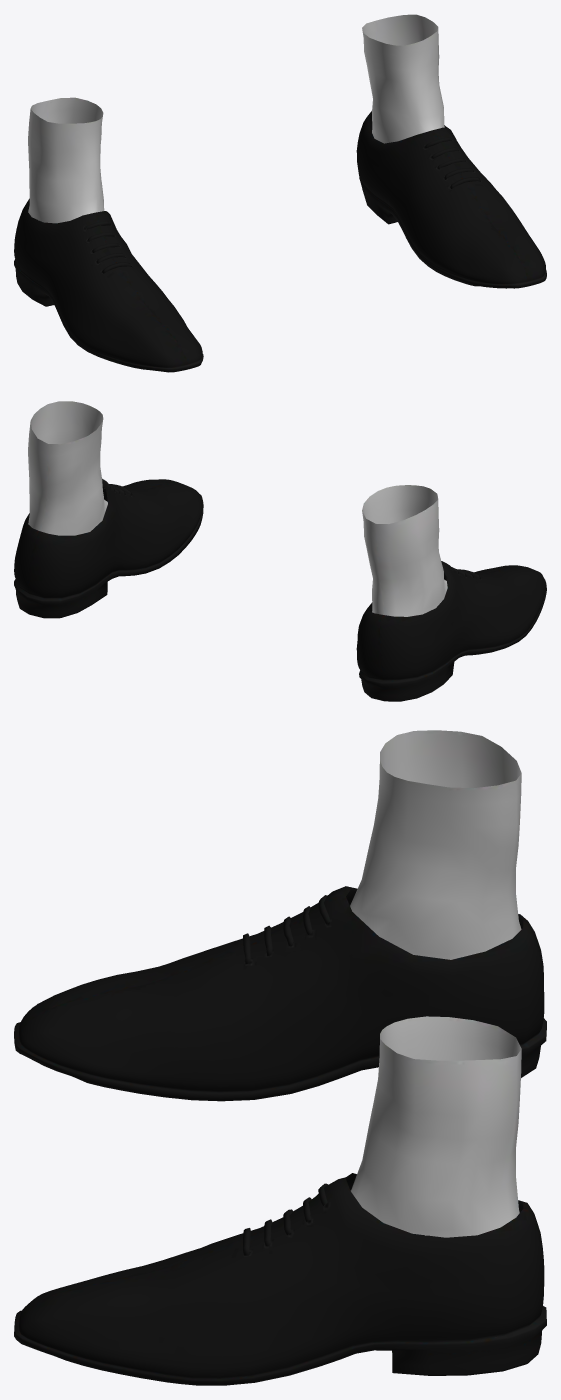
File: mindfront-shoes-oxford-female.glb
The picture shows the model from 3 angles, top to bottom: view 1: azimuth 30°, elevation 25°; view 2: azimuth 150°, elevation 25°; view 3: azimuth 270°, elevation 25°; orthographic projection. The views are drawn at different scales.
Parts seen in each view (by area): view 1: Human.mindfront_shoes_oxford_female; view 2: Human.mindfront_shoes_oxford_female; view 3: Human.mindfront_shoes_oxford_female.
Part boxes in pixels (x1=…): Human.mindfront_shoes_oxford_female: x1=14, y1=14, x2=546, y2=372; Human.mindfront_shoes_oxford_female: x1=14, y1=401, x2=546, y2=701; Human.mindfront_shoes_oxford_female: x1=14, y1=730, x2=546, y2=1385.
Bounding box in the file's own units: 0.4409 × 0.1746 × 0.2671.
1 material, 1 textured.
